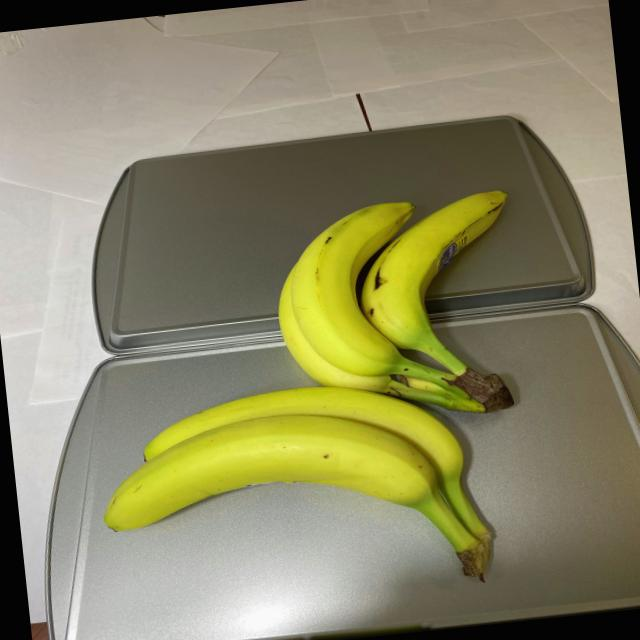banana: (72, 184, 554, 606)
